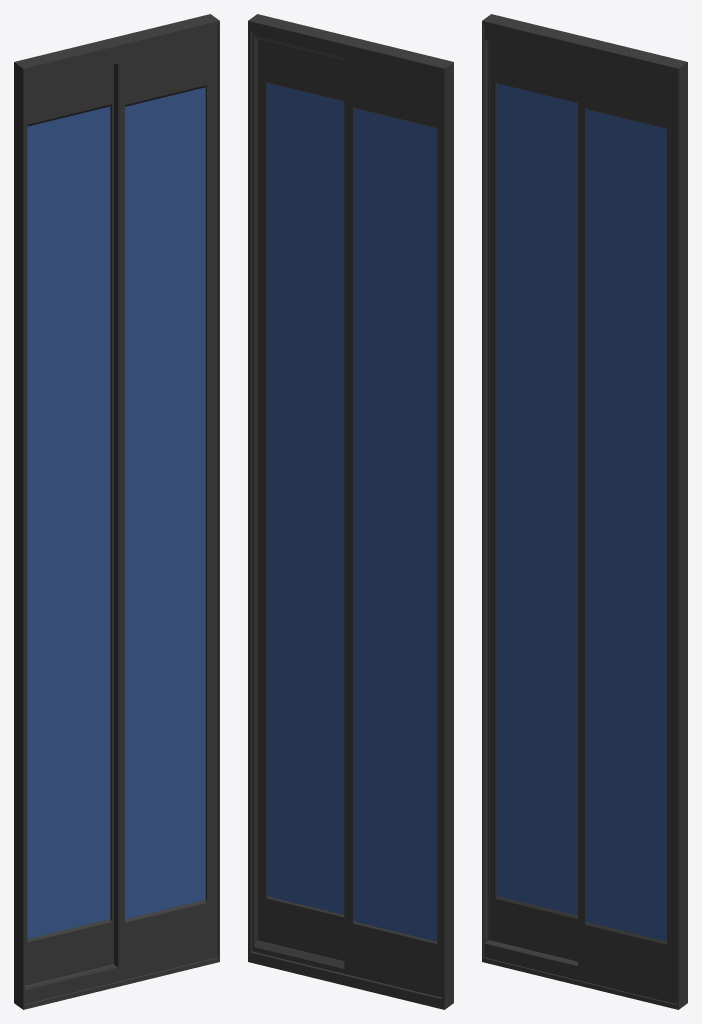
Rendered from mirror_1_v000.glb.
3 views of the same model, side by side, from view 1: azimuth 30°, elevation 25°; view 2: azimuth 150°, elevation 25°; view 3: azimuth 330°, elevation 25° (orthographic).
Visible parts, largest first — view 1: world; view 2: world; view 3: world.
Part boxes in pixels (<box>): world: <box>14,14,219,1009</box>; world: <box>248,14,453,1009</box>; world: <box>482,14,687,1009</box>.
Size of the model in its own units: 19.32 by 88.4 by 1.59.
Materials: 1 (1 with a texture image).
